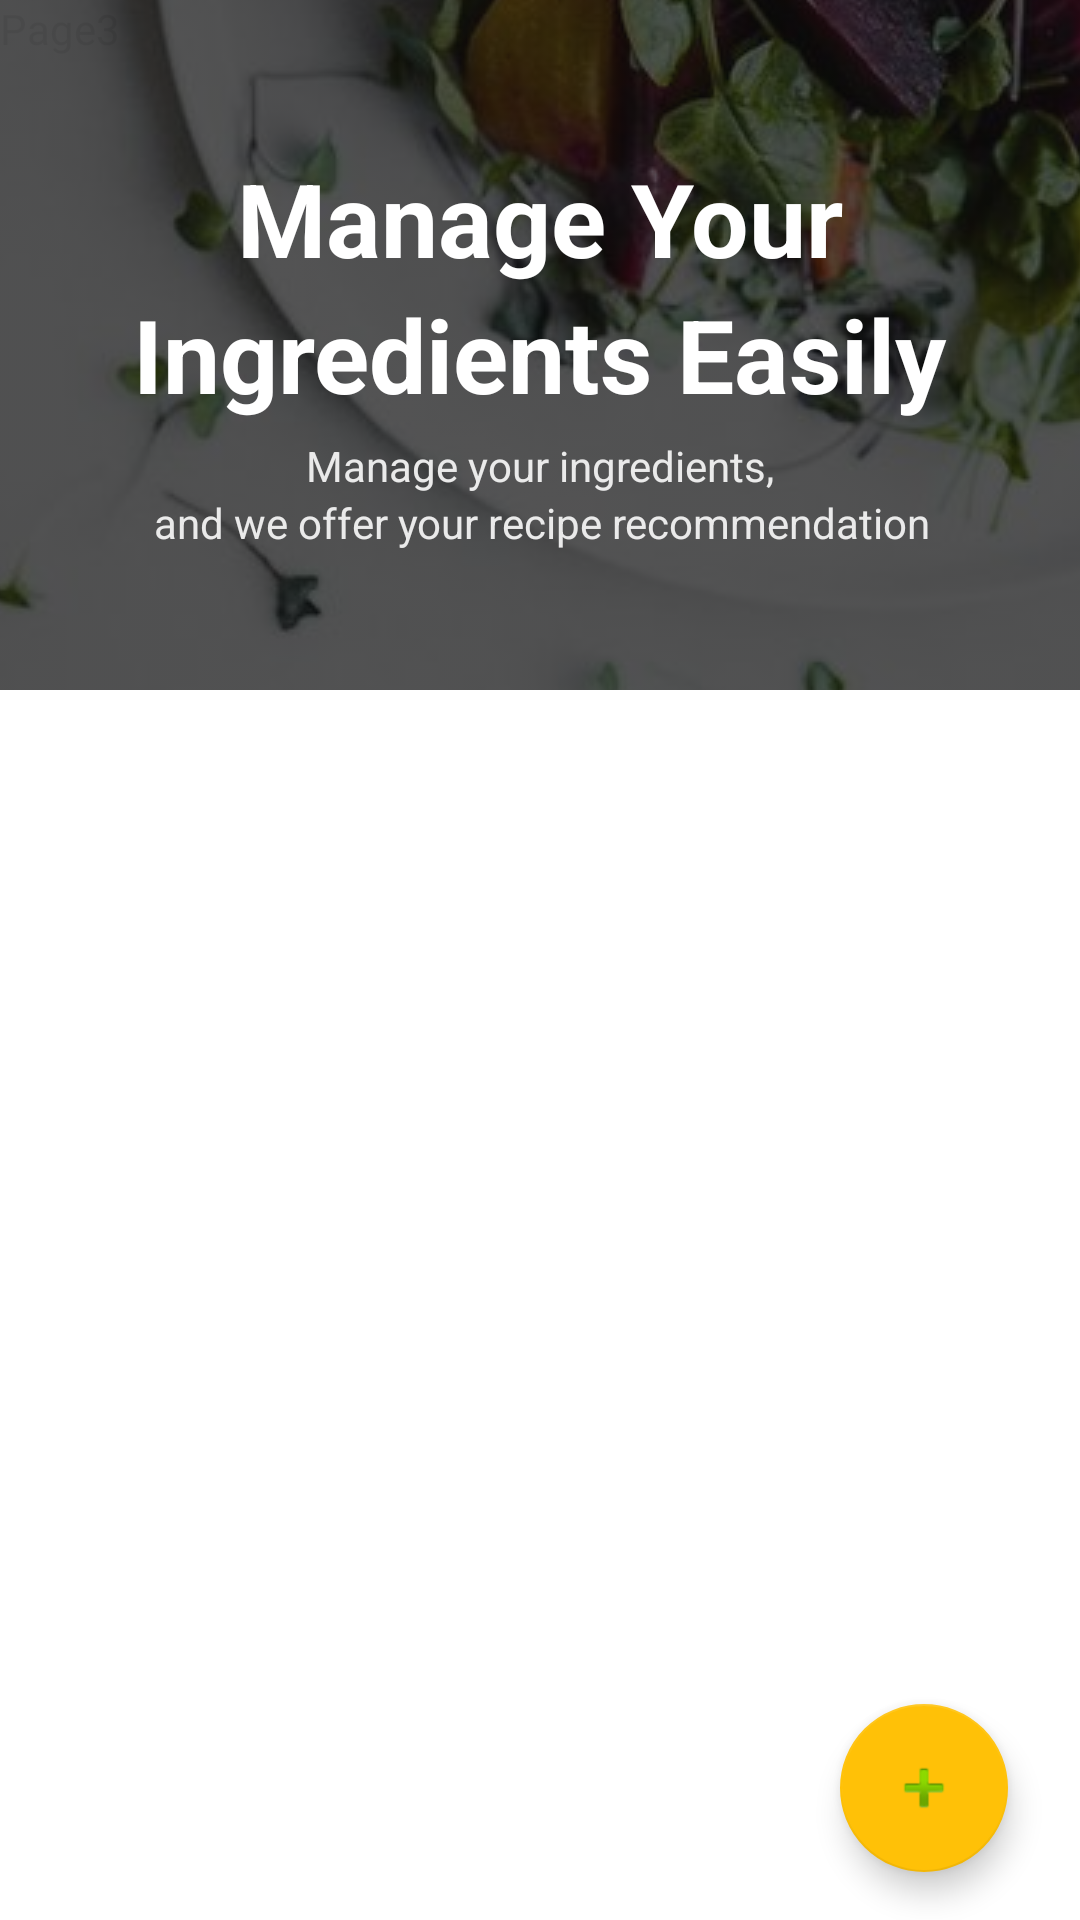

Point at icon controls on the screen. Image size 1080px×1920px, points as point (x, y).
add: point (924, 1788)
